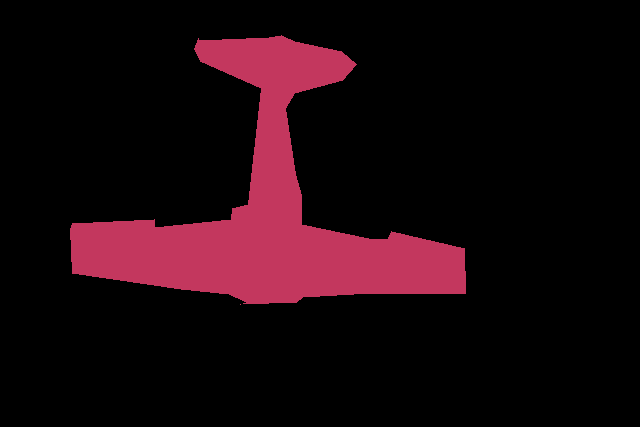Airplane: (70, 35, 466, 305)
